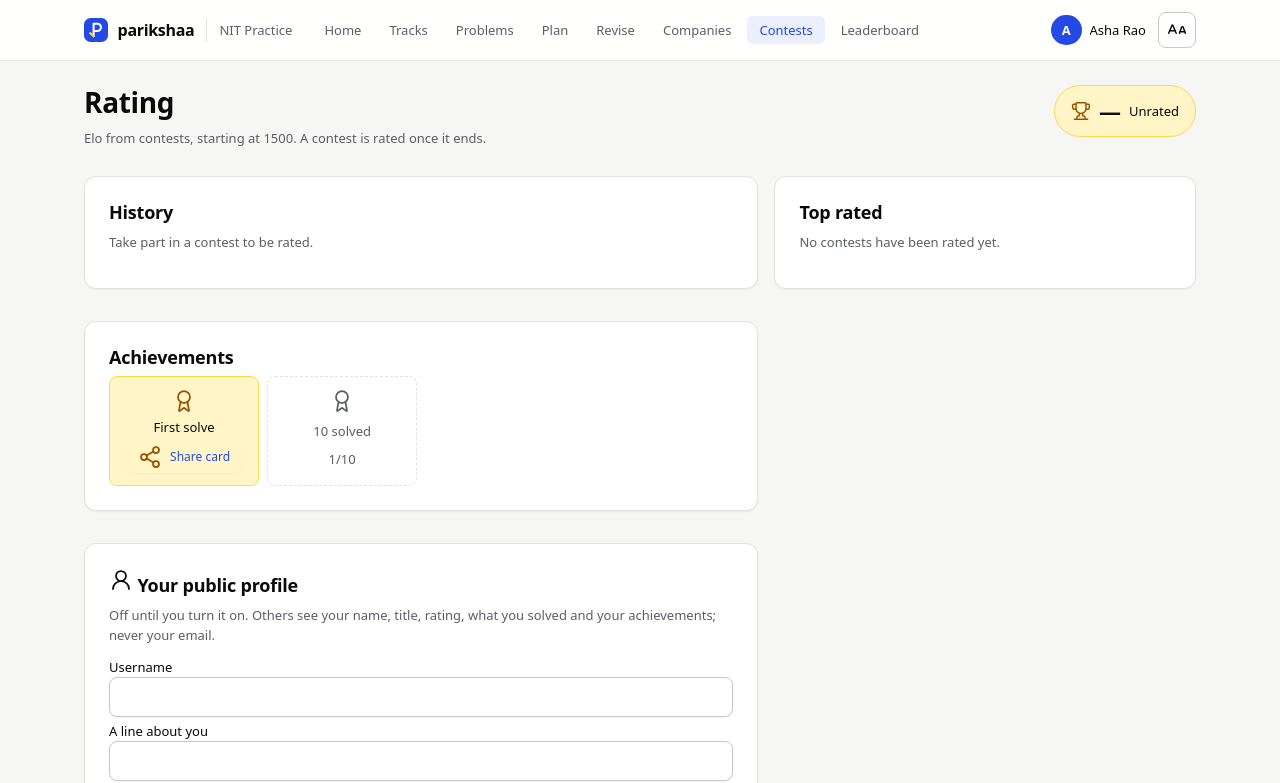
Test case: rating › makes a card for an earned achievement, and sets the public profile
Click the button "Share card".
click(184, 457)  # box [126,441,242,473]
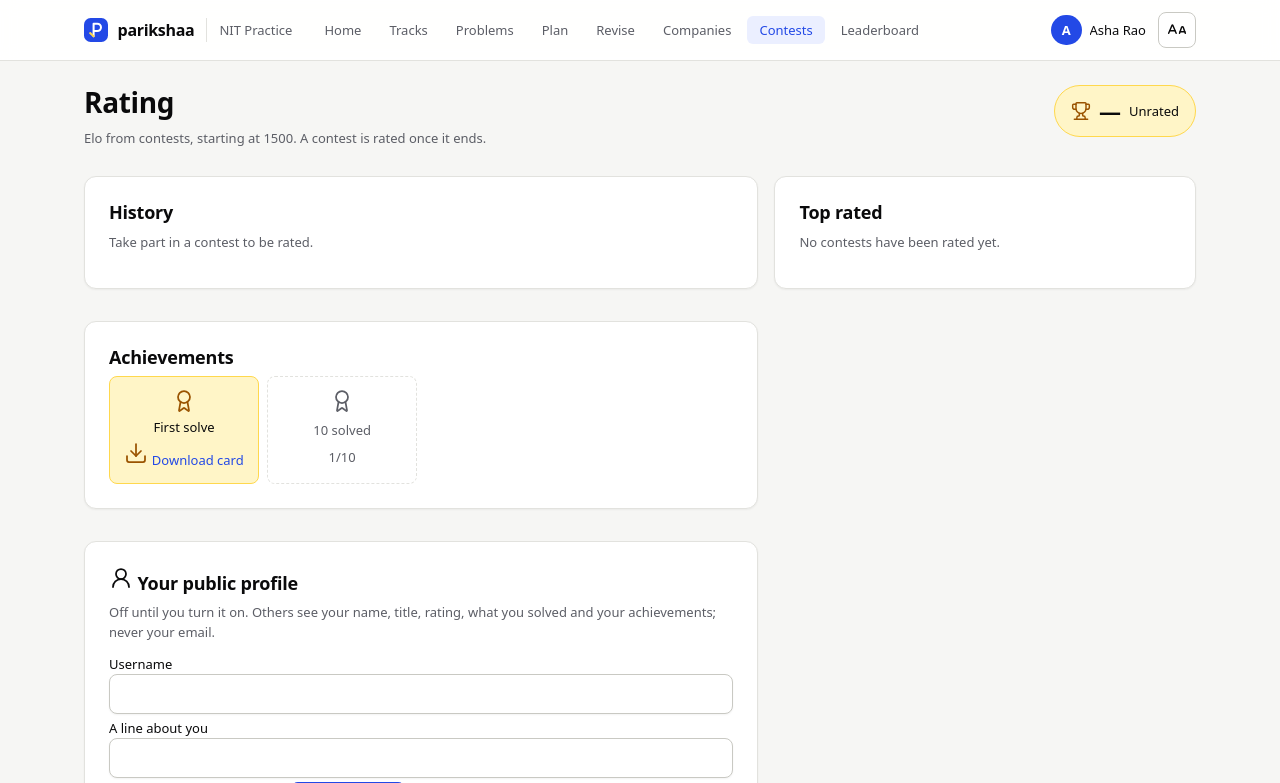
Check: the text "never your email" is shown, box [109,603,716,641]
Type "Asha_R" into the field labelled "Username".
click(421, 694); type("Asha_R")  # box [109,674,734,714]
(page scrolled)
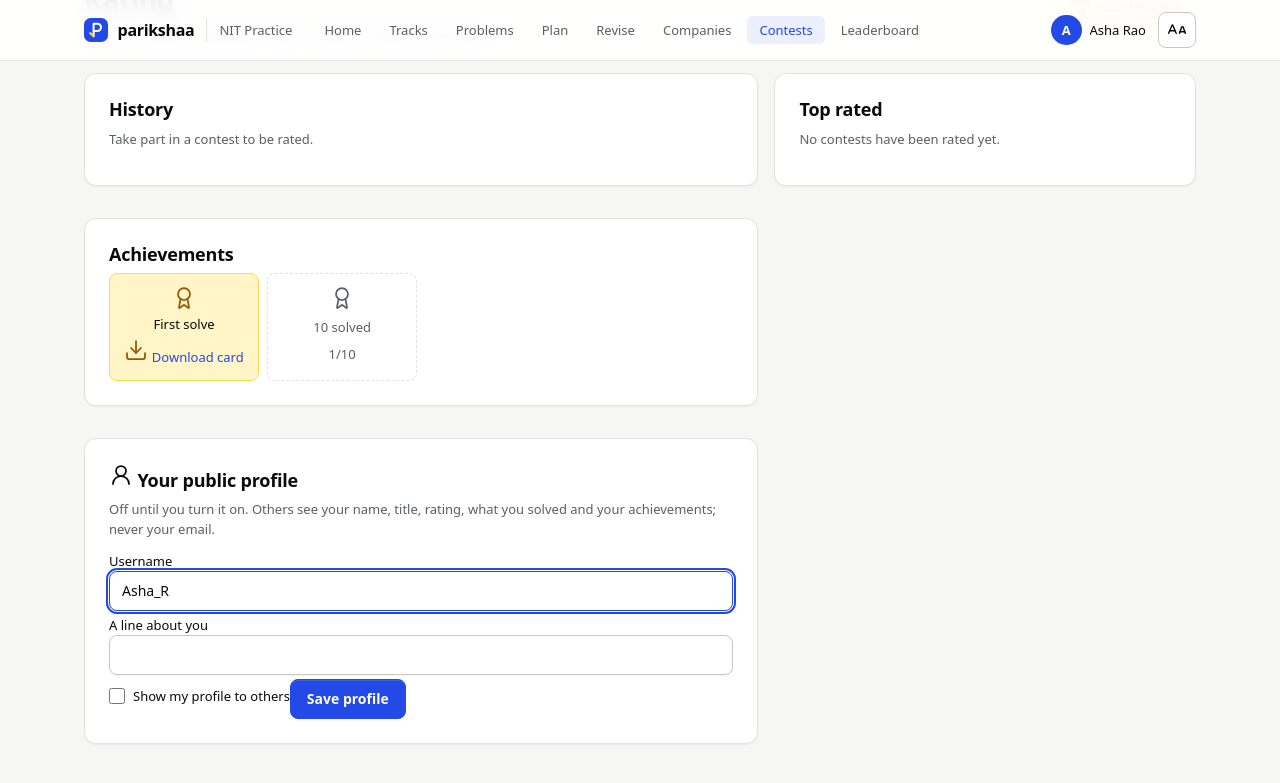
Click the checkbox labelled "Show my profile to others".
click(117, 696)  # box [109,688,125,704]
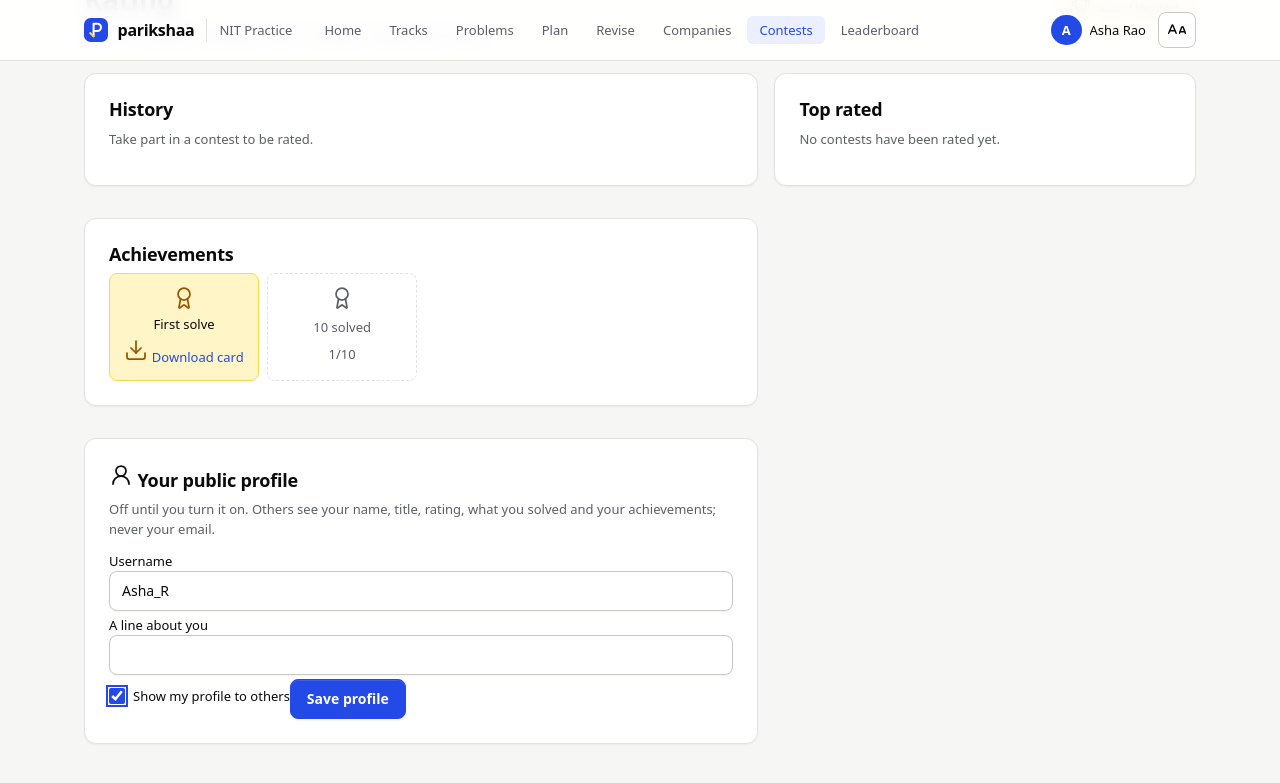
Click the button "Save profile".
click(348, 699)  # box [290,679,406,719]
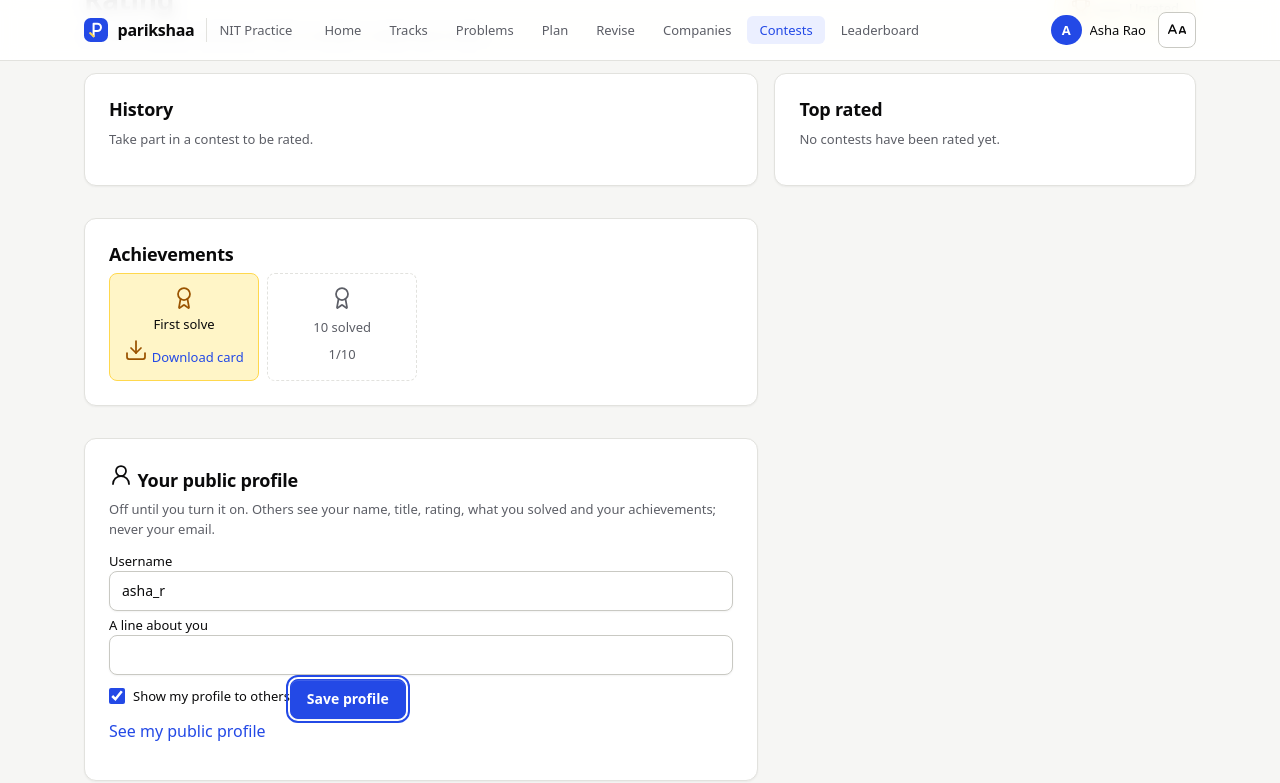
Check: the link "See my public profile" is shown, box [109,720,266,742]
